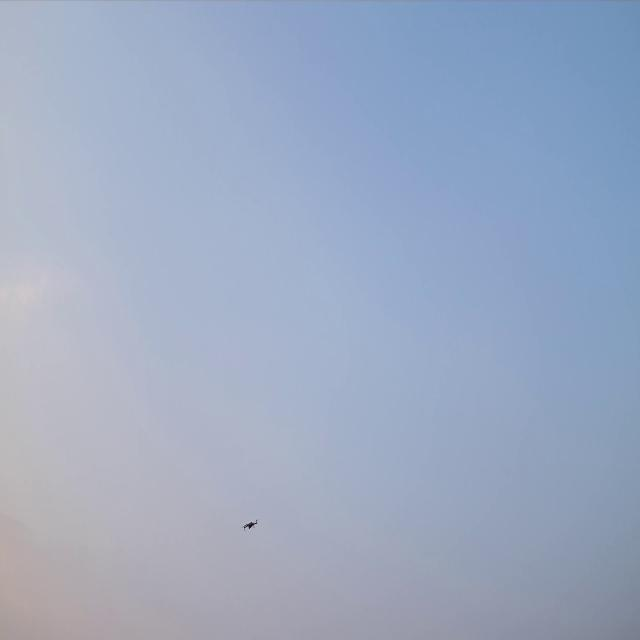UAV: (240, 518, 260, 533)
